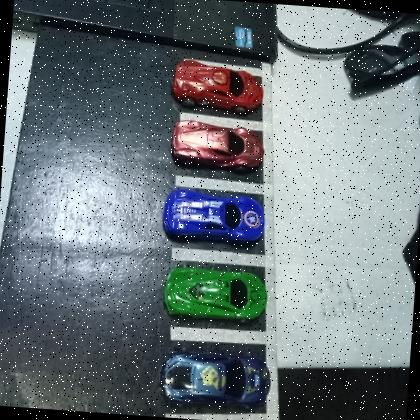Car: (155, 343, 274, 416), (160, 262, 270, 327), (160, 188, 268, 250), (168, 118, 268, 176), (168, 57, 267, 115)
